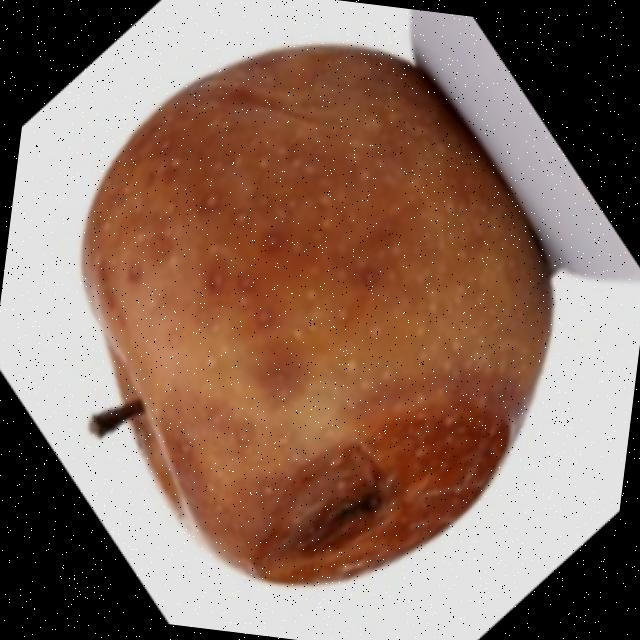Rotten: (34, 8, 588, 620)
